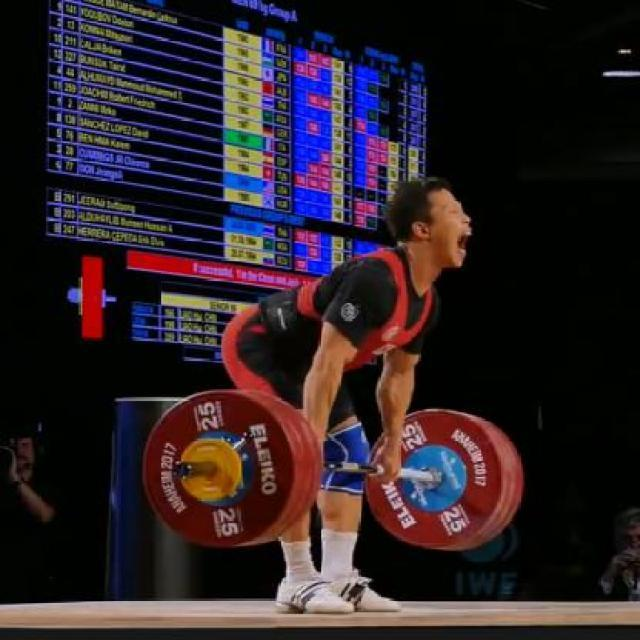barbell: (133, 357, 324, 554)
